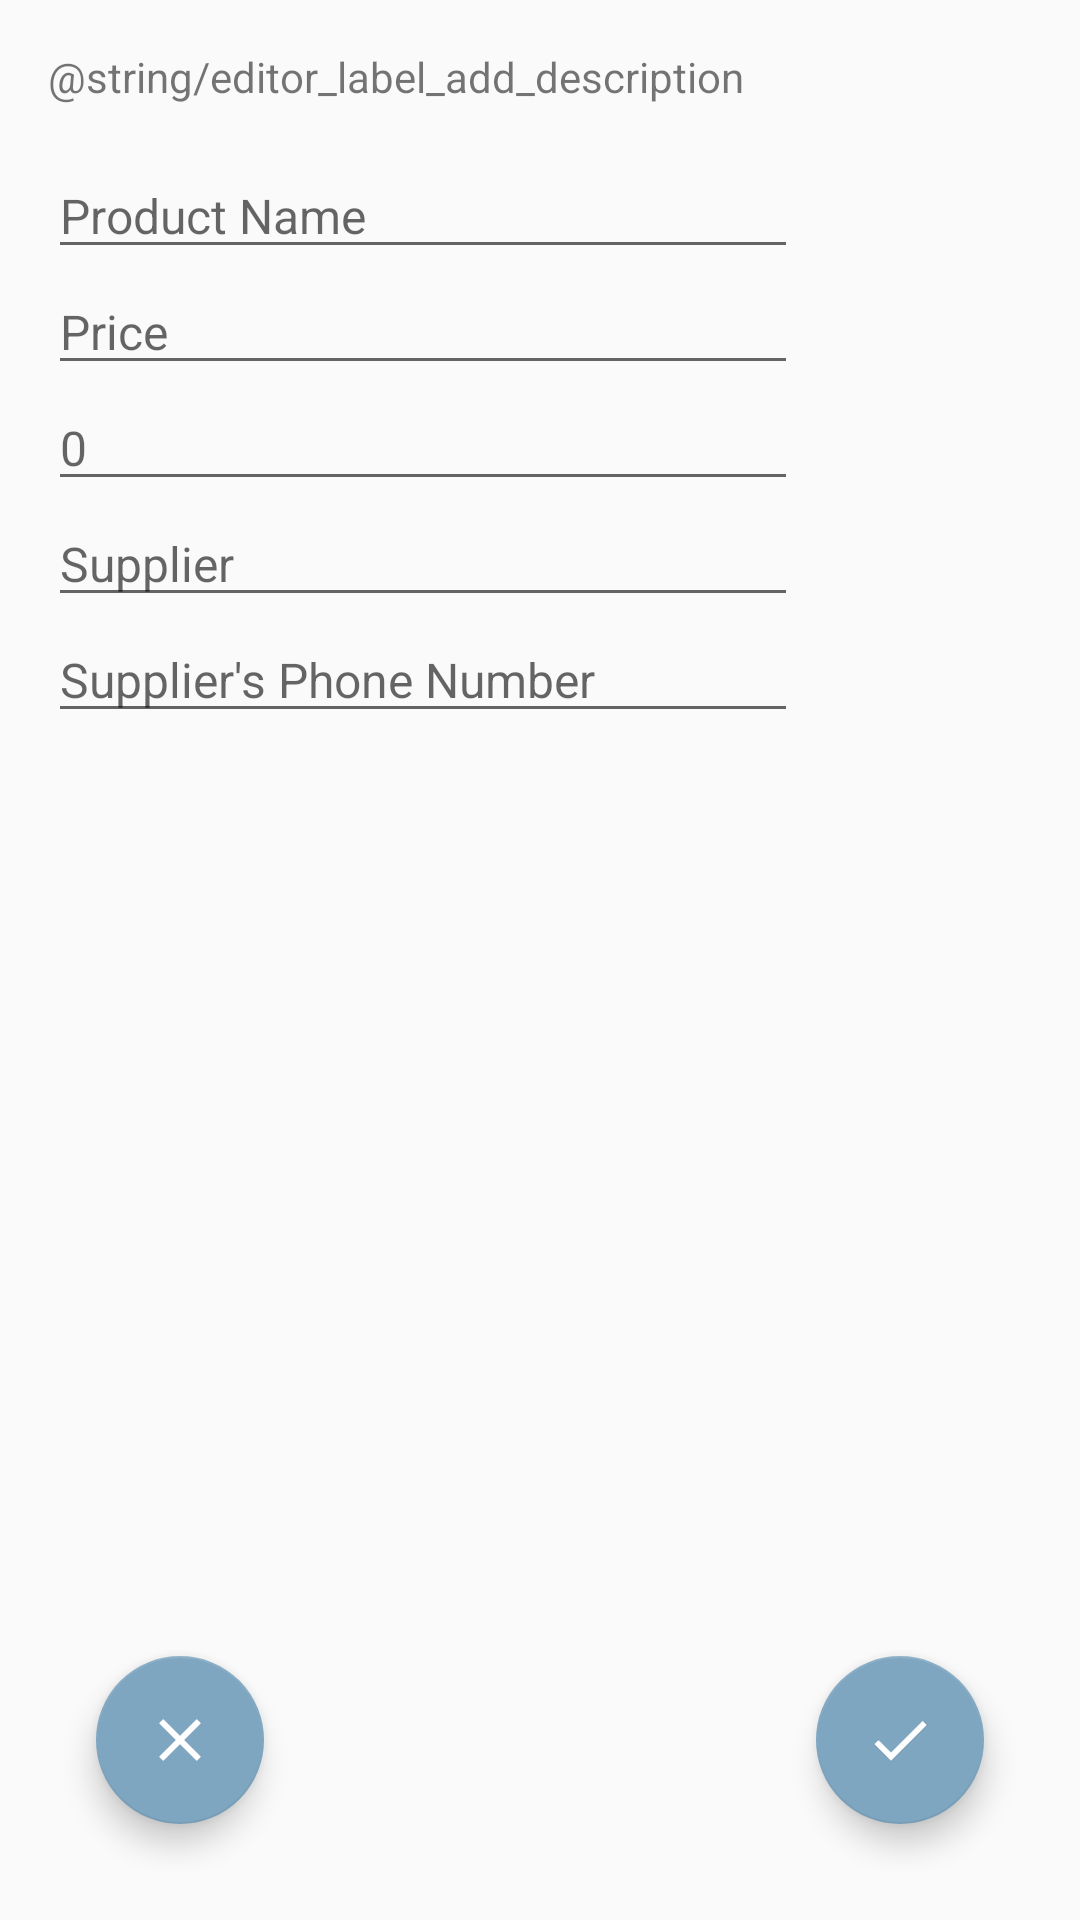

Where to tap for icons on this 1080px x 1920px app screen, as (x,y):
check: (900,1740)
close: (180,1740)
